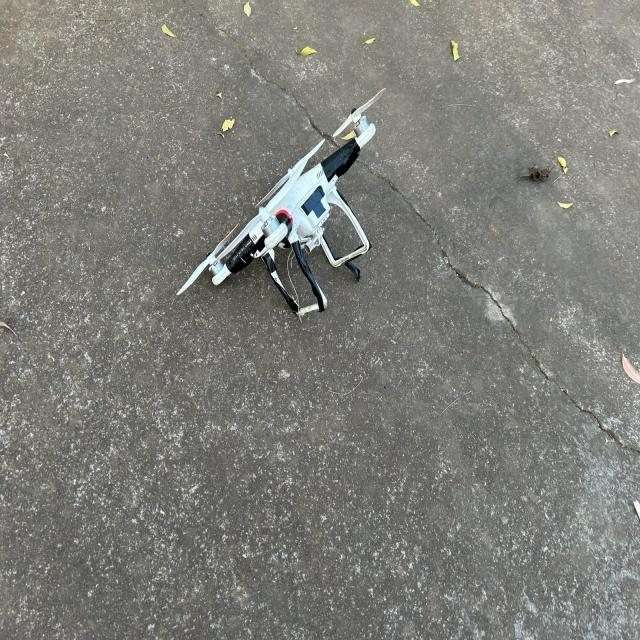drone: (122, 48, 473, 382)
